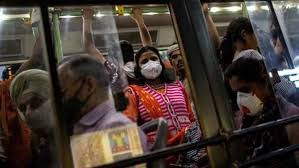mask: (52, 71, 89, 121), (230, 72, 271, 115), (17, 92, 57, 134), (136, 50, 162, 79)
